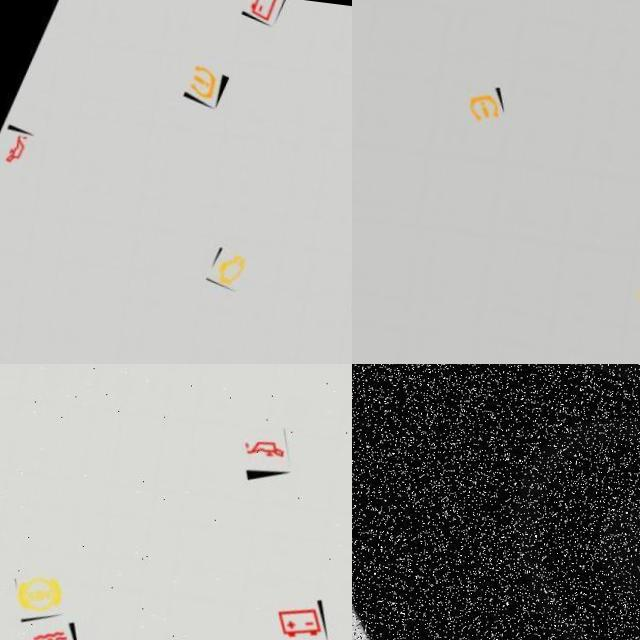Electronic Power Steering: (425, 364, 640, 640)
